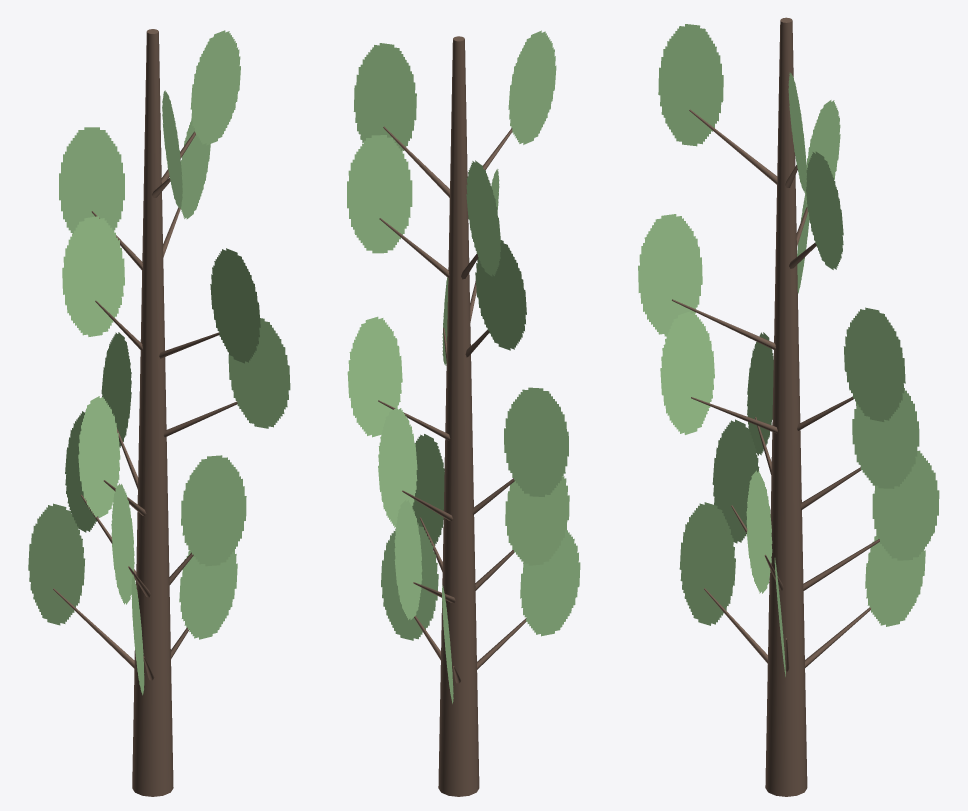
The model's file is sapling01.glb.
The picture shows the model from 3 angles, left to right: view 1: azimuth 30°, elevation 25°; view 2: azimuth 150°, elevation 25°; view 3: azimuth 270°, elevation 25°; orthographic projection. The views are drawn at different scales.
Visible parts, largest first — view 1: foliage, stem, twigs; view 2: foliage, stem, twigs; view 3: foliage, stem, twigs.
Part boxes in pixels (x1,y1,x2,y2): foliage: (28, 30, 290, 695); stem: (132, 29, 173, 796); twigs: (53, 131, 237, 680); foliage: (347, 30, 580, 703); stem: (438, 36, 479, 796); twigs: (378, 126, 526, 683); foliage: (638, 24, 939, 676); stem: (765, 17, 807, 796); twigs: (672, 109, 879, 671).
Size of the model in its own units: 0.611 by 2.06 by 0.8029.
Materials: 2 (1 with a texture image).
